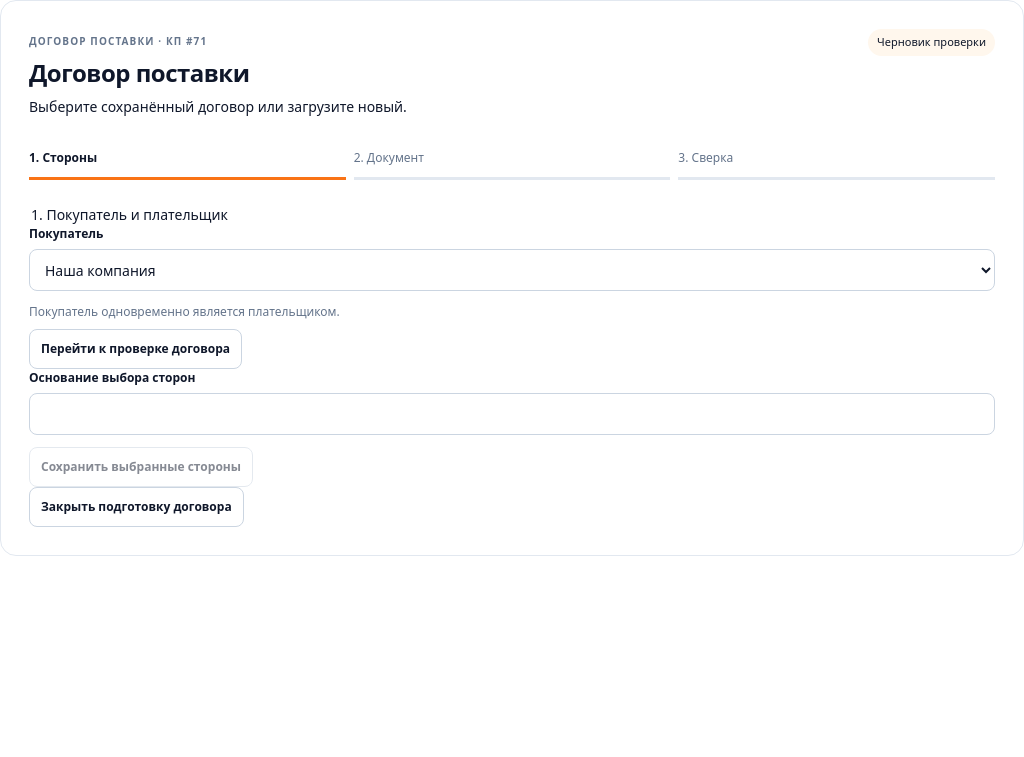
Test: existing contract choice cannot overwrite a manually edited draft
Click the button "Перейти к проверке договора". click: [136, 349]
box: [29,329,242,369]
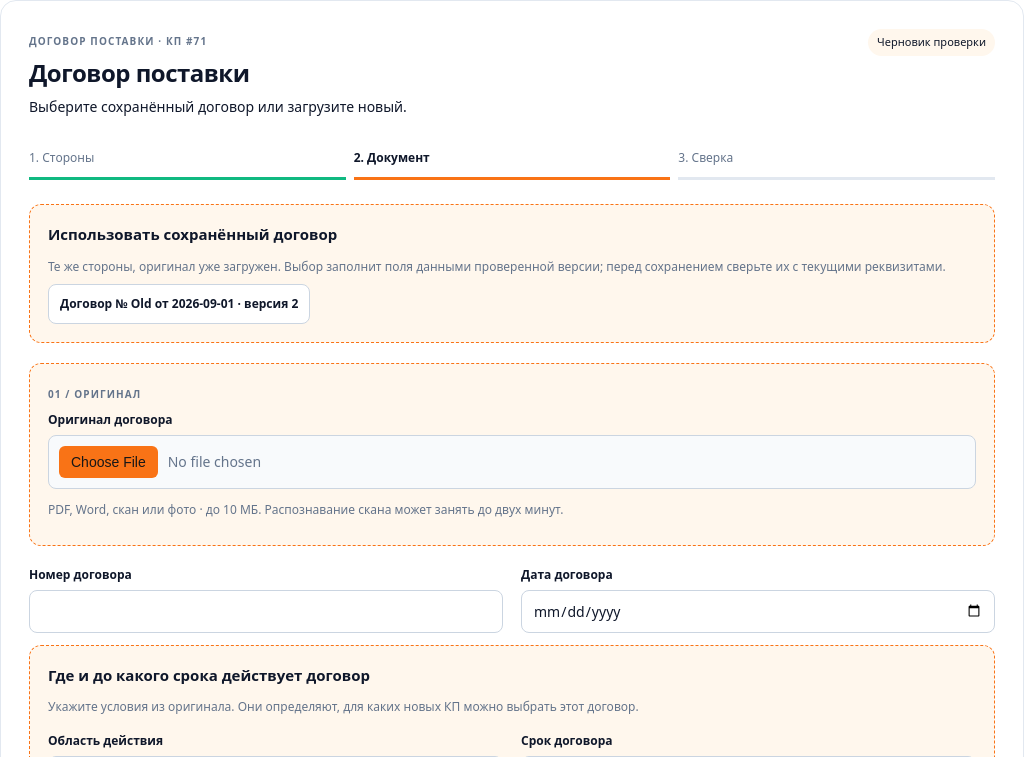
expect the button "Договор № Old от 2026-09-01 · версия 2" is shown: met, box [48,284,310,324]
Type "Вручную" into the field labelled "Номер договора". click: [266, 611]
box: [29,590,503,632]
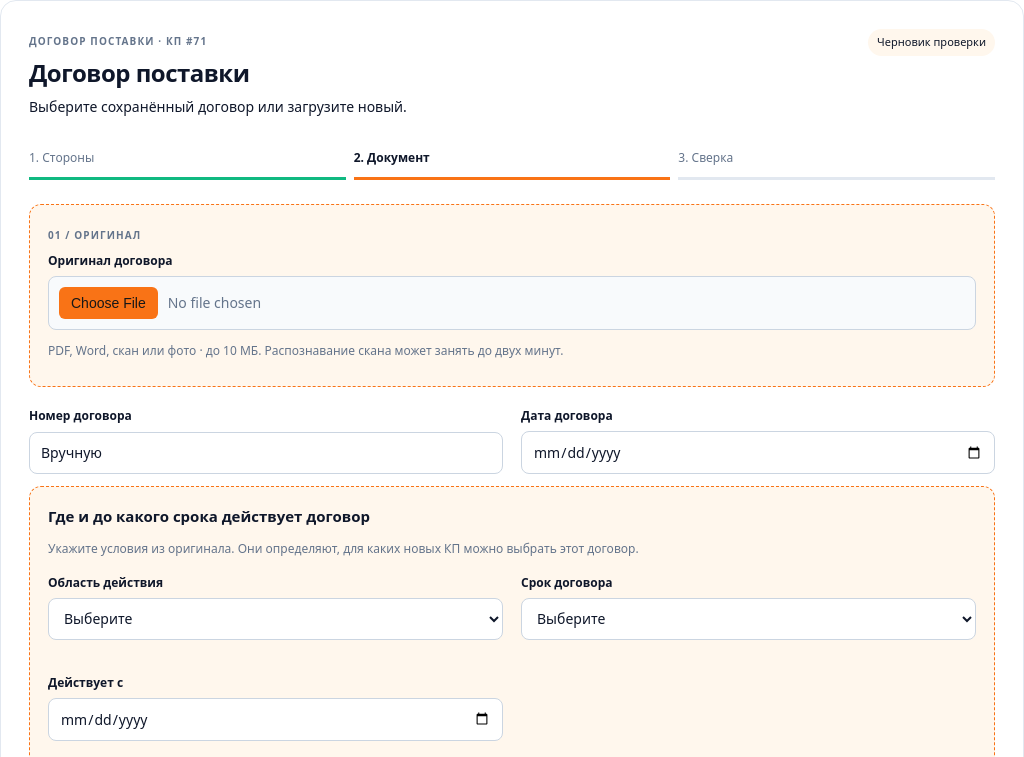
expect the button "Договор № Old" is gone: met
